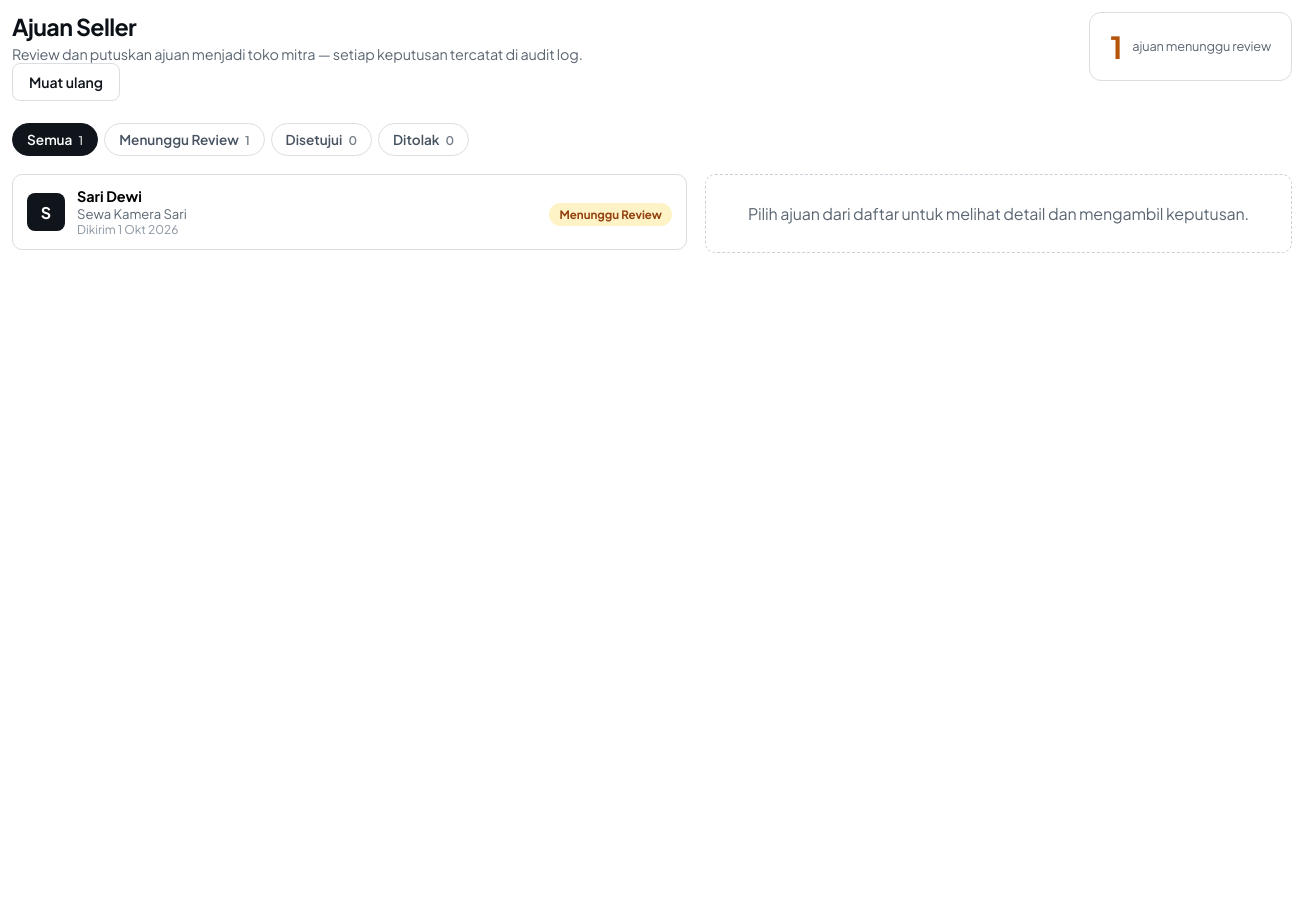
Test: AdminApplications › persetujuan memanggil RPC lalu menampilkan sukses dan memuat ulang
Expected: the text "Sari Dewi" is shown, [77, 187, 142, 205]
Click the button that starts with "Sari Dewi" at (46, 212), box [12, 174, 687, 250]
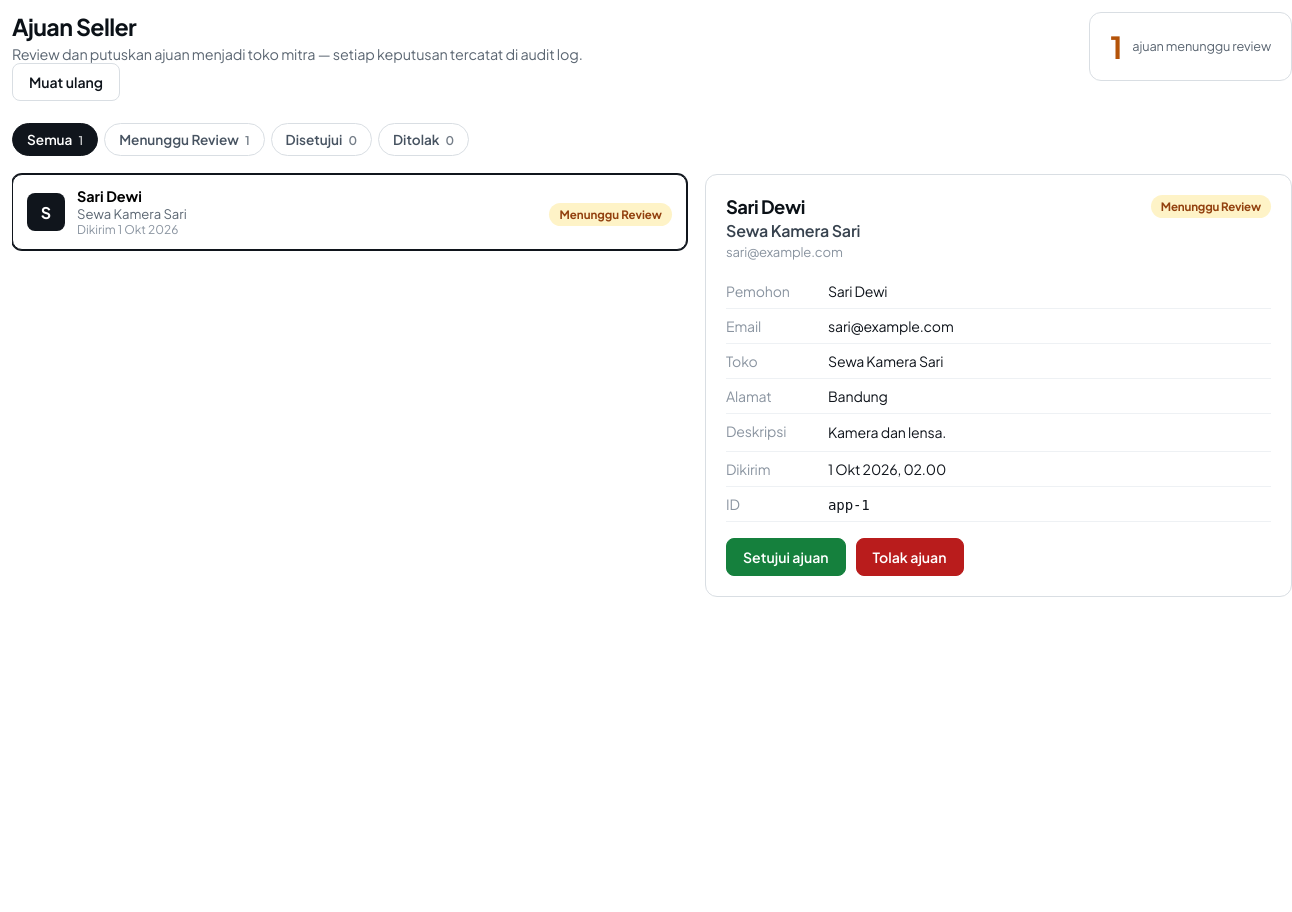
Click the button "Setujui ajuan" at (786, 557), box [726, 538, 846, 576]
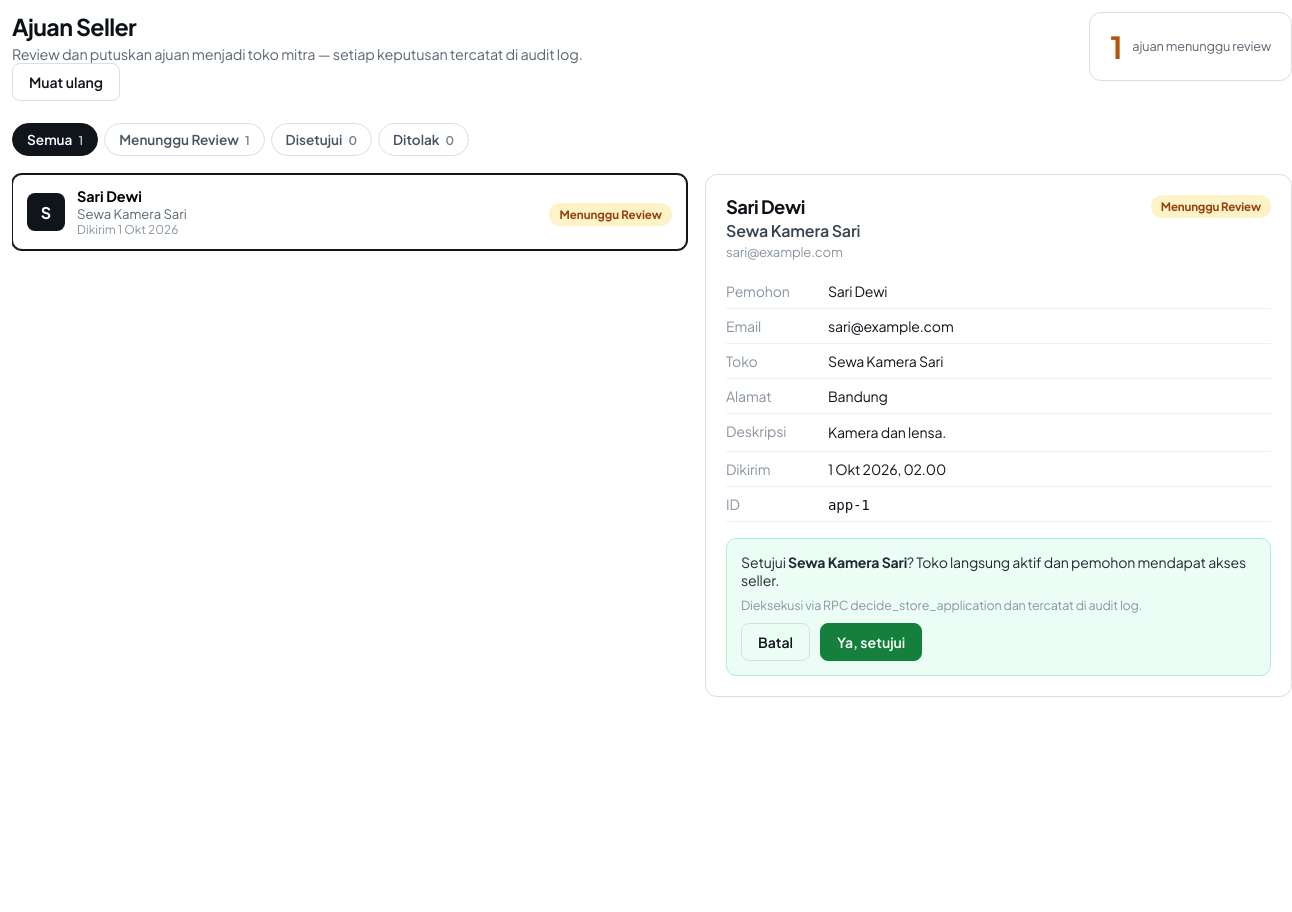
Click the button "Ya, setujui" at (871, 642), box [820, 623, 922, 661]
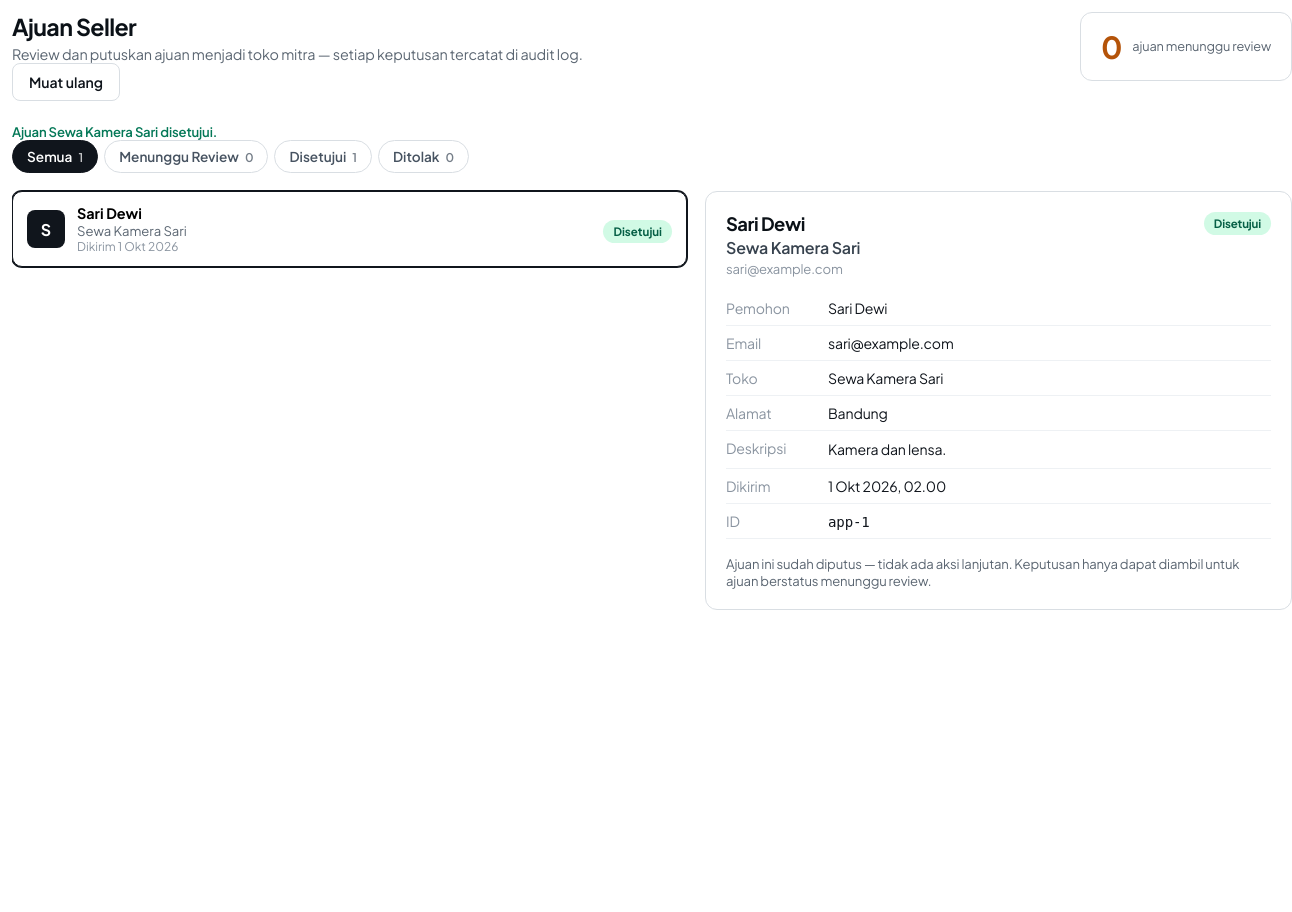
Expected: the text "Ajuan Sewa Kamera Sari disetujui." is shown, [12, 123, 217, 140]
